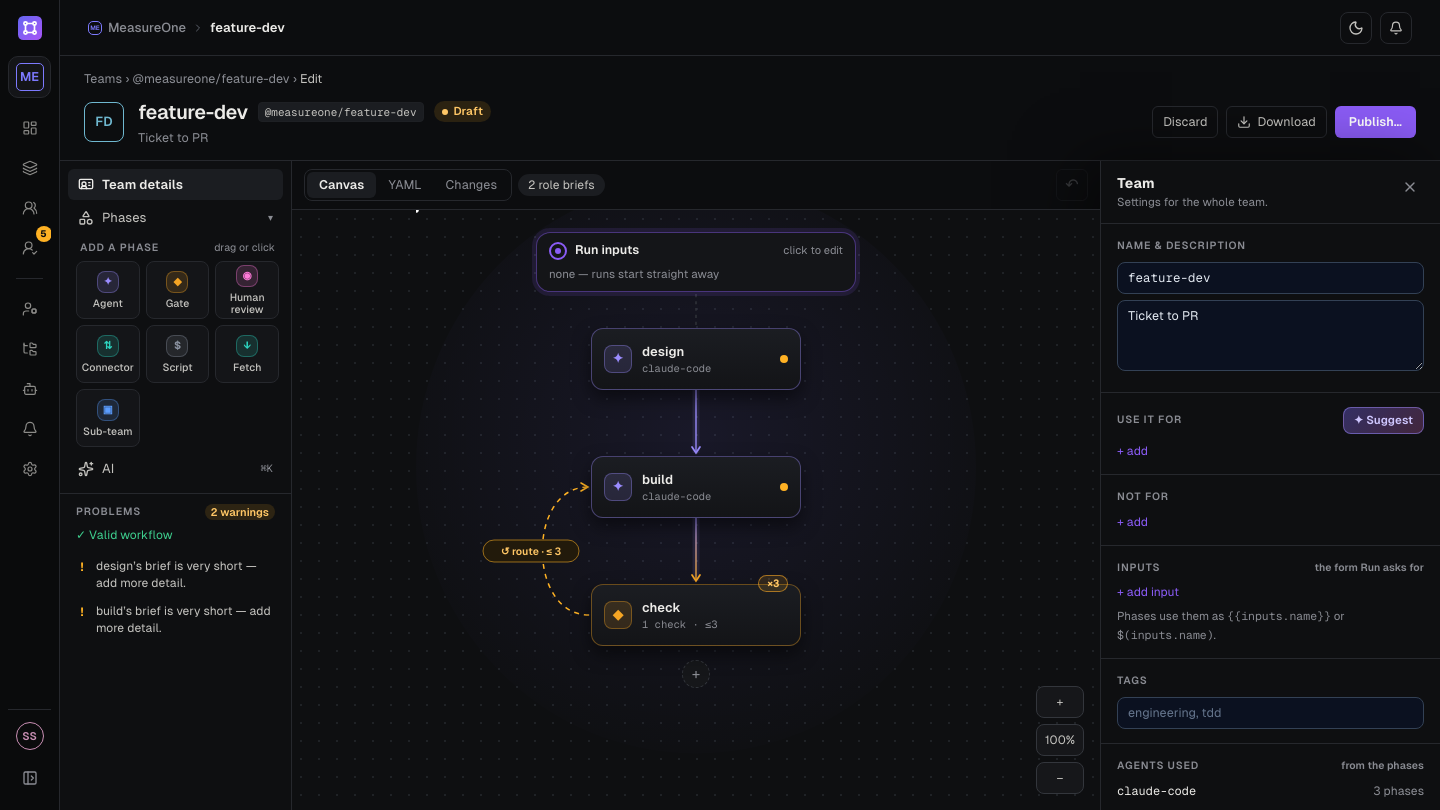
Test case: Graphite builder — workspace › Changes view lists edits since opening and can revert them
The image size is (1440, 810).
expect the element with test id "canvas" is shown: met, box x1=292 y1=210 x2=1100 y2=809
Click the button with test id "tile-script".
click(178, 354)  # box x1=146 y1=325 x2=209 y2=383
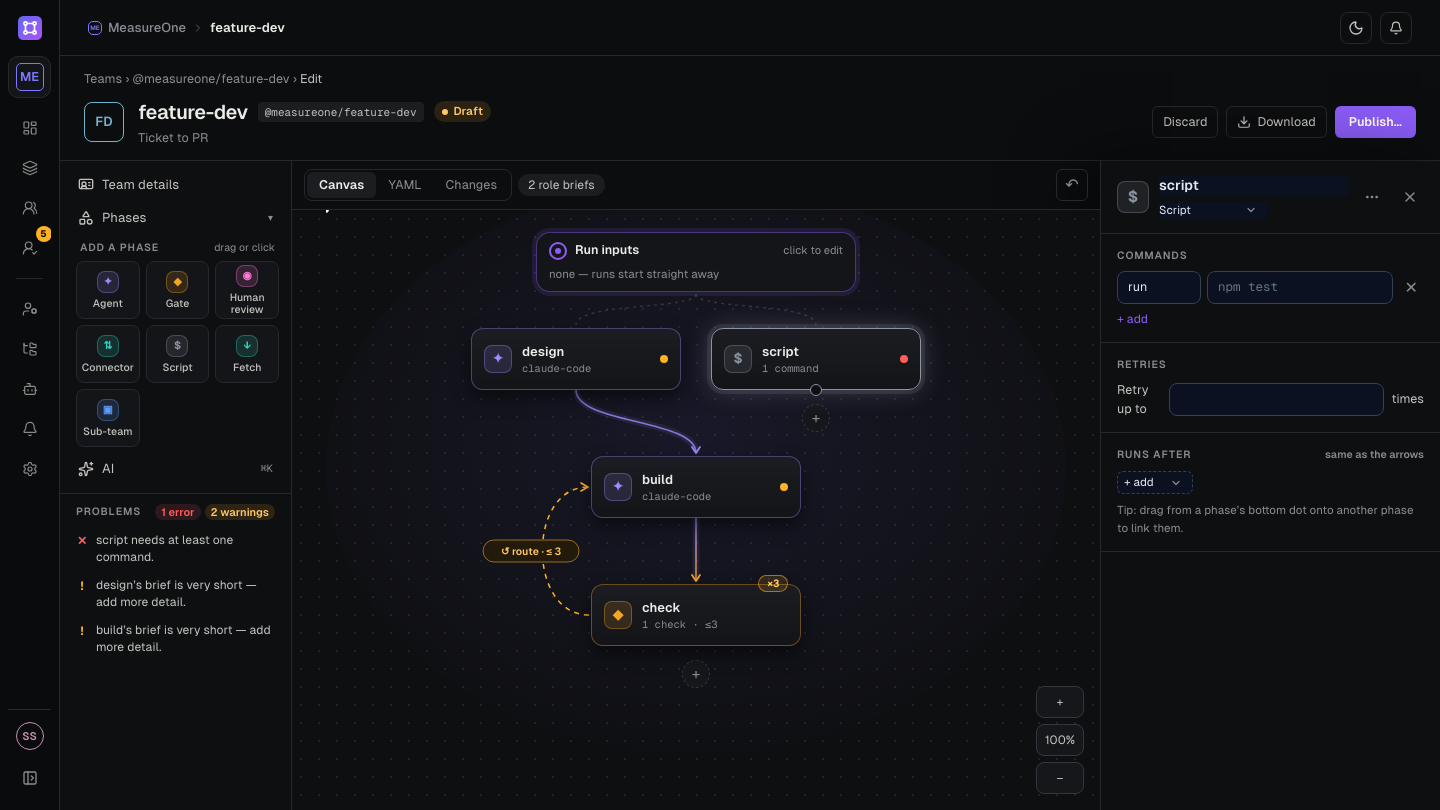
Click the tab "Changes".
click(471, 185)  # box x1=434 y1=172 x2=509 y2=198
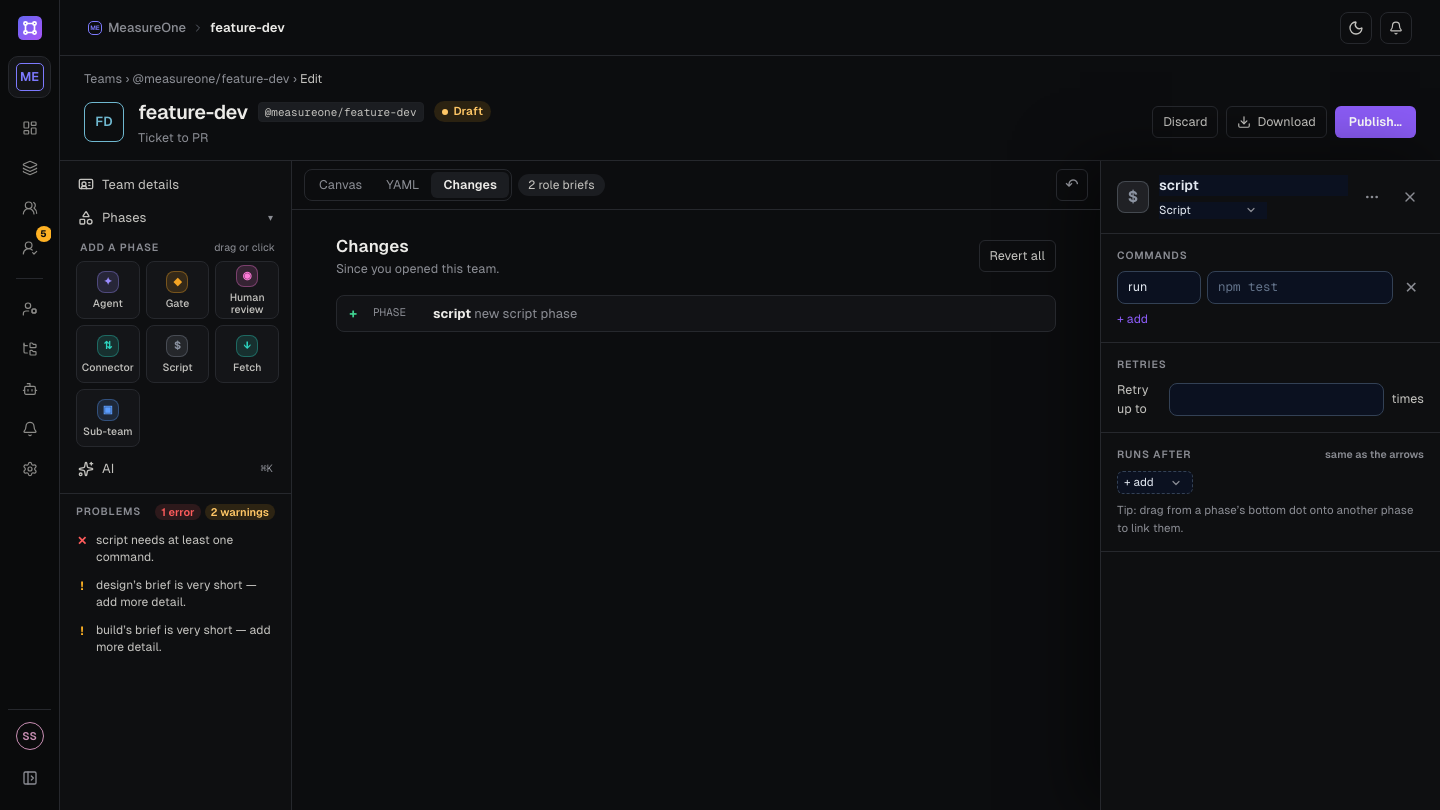
expect the text "script" is shown: met, box x1=433 y1=306 x2=471 y2=320
Click the button "Revert all".
click(1017, 256)  # box x1=978 y1=240 x2=1056 y2=272
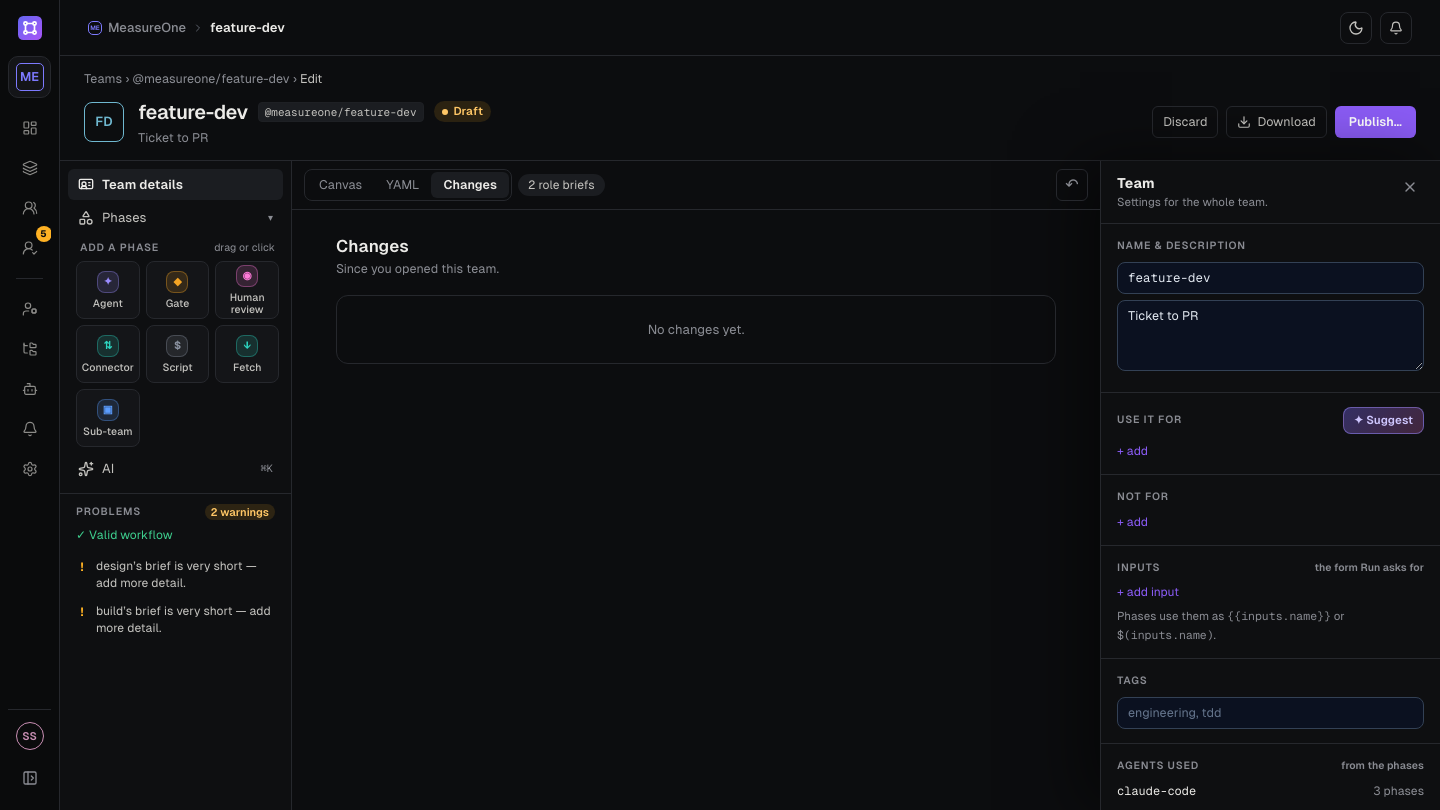
expect the text "No changes yet." is shown: met, box x1=336 y1=294 x2=1056 y2=364
